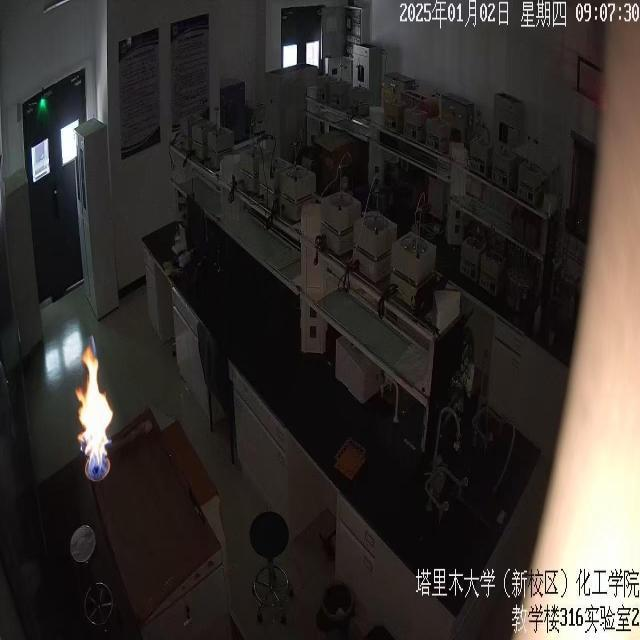smoke: (76, 338, 114, 481)
